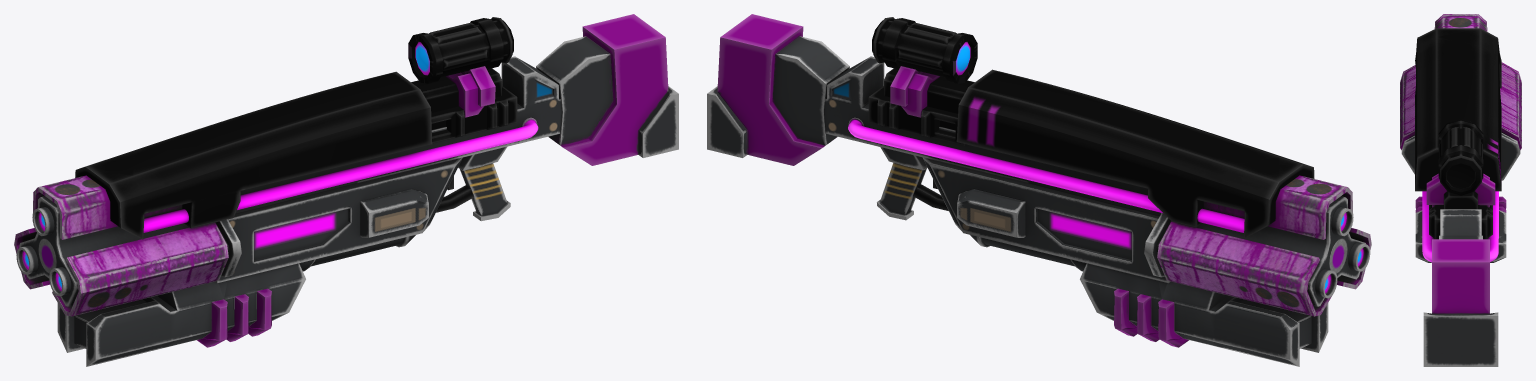
File: gun_1.glb
3 renders of one model, left to right at view 1: azimuth 30°, elevation 25°; view 2: azimuth 150°, elevation 25°; view 3: azimuth 270°, elevation 25°, orthographic. The views are drawn at different scales.
Visible parts, largest first — view 1: SciFi_Gun1; view 2: SciFi_Gun1; view 3: SciFi_Gun1.
Part boxes in pixels (x1,y1,x2,y2): SciFi_Gun1: (14, 14, 678, 366); SciFi_Gun1: (707, 14, 1371, 366); SciFi_Gun1: (1400, 14, 1521, 366).
Bounding box in the file's own units: 1890 × 723 × 354.
Materials: 1 (1 with a texture image).
